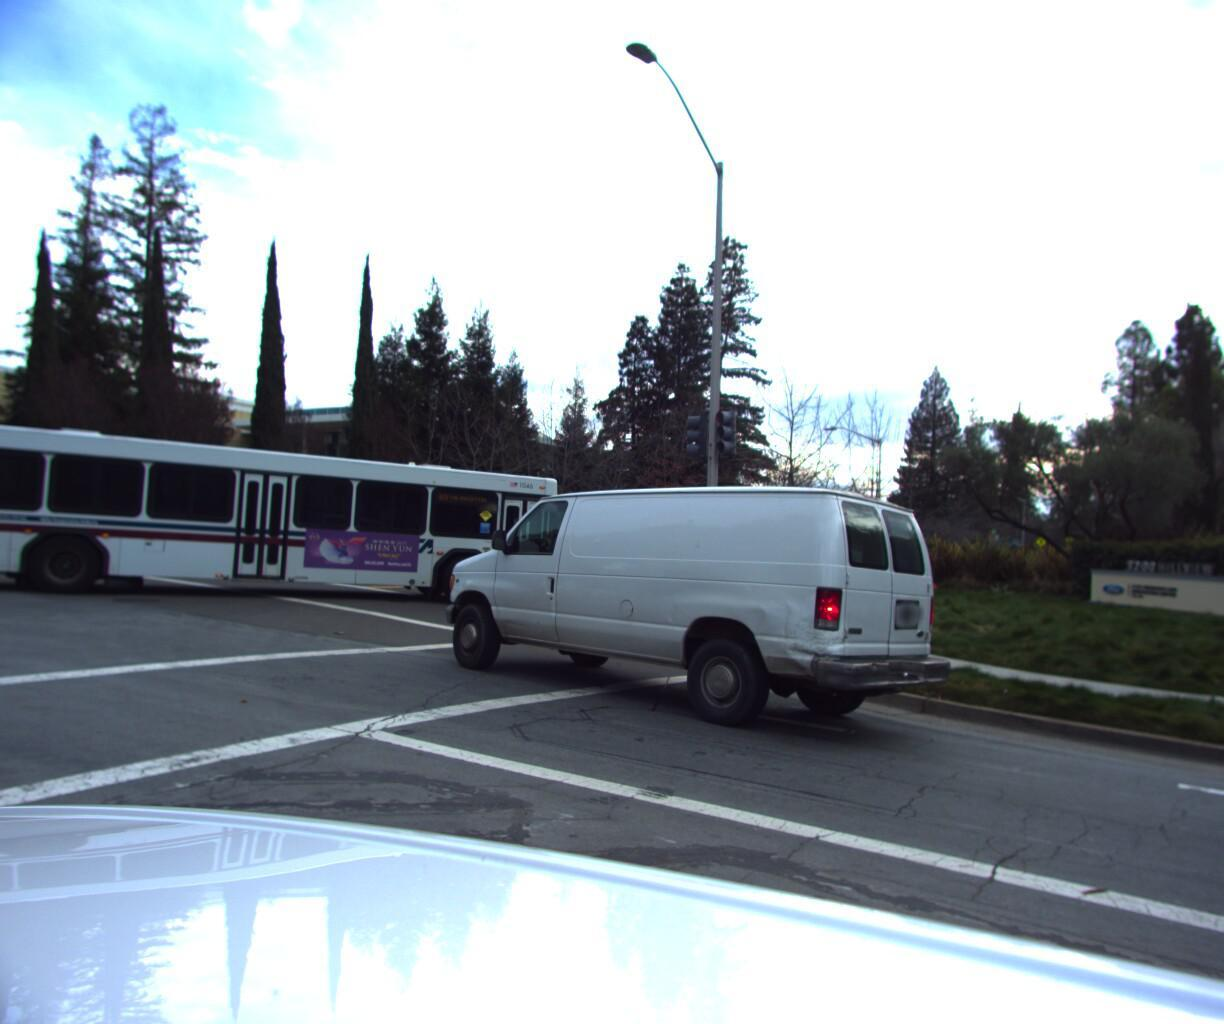bus: (0, 410, 582, 609)
car: (422, 461, 970, 762)
